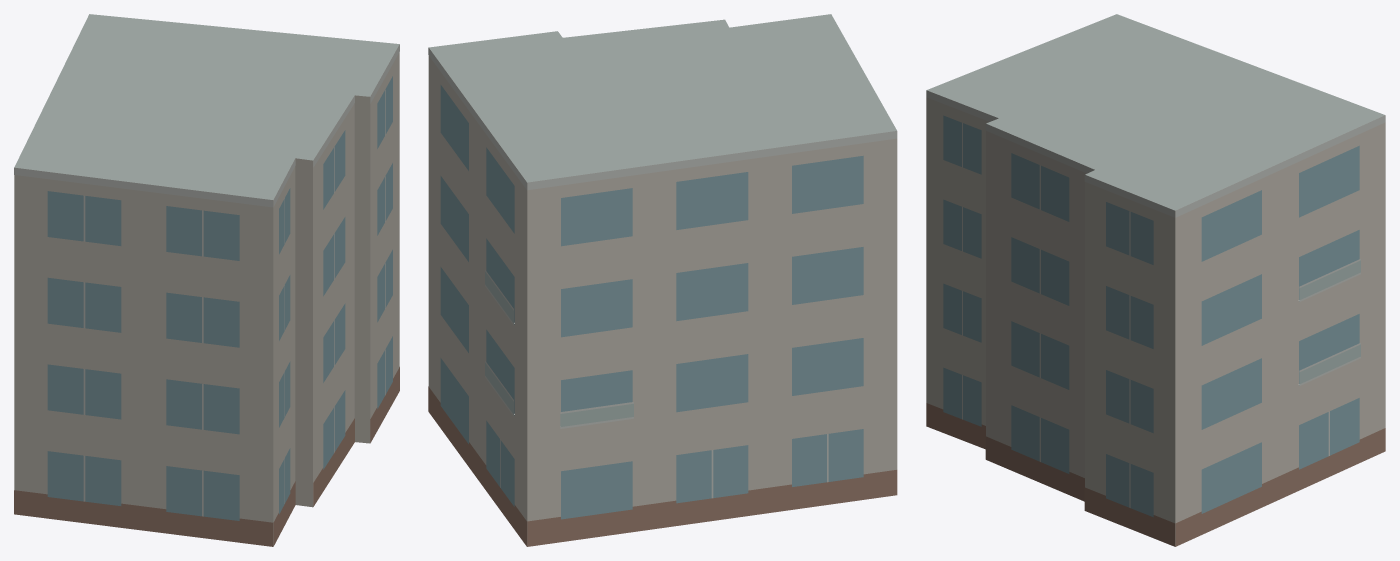
The model's file is survey-upis-32774952.glb.
The picture shows the model from 3 angles, left to right: view 1: azimuth 30°, elevation 25°; view 2: azimuth 150°, elevation 25°; view 3: azimuth 270°, elevation 25°; orthographic projection. The views are drawn at different scales.
Visible parts, largest first — view 1: survey-upis-32774952.tmp; view 2: survey-upis-32774952.tmp; view 3: survey-upis-32774952.tmp.
Boxes of the visible parts, x1,y1,x2,y2 form: survey-upis-32774952.tmp: (14, 14, 399, 546); survey-upis-32774952.tmp: (428, 14, 897, 546); survey-upis-32774952.tmp: (926, 14, 1385, 546).
Bounding box in the file's own units: 14.44 × 11.5 × 14.24.
